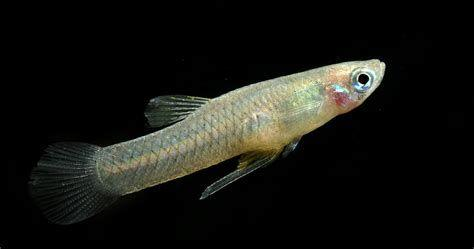Mosquito Fish: (29, 56, 388, 228)
